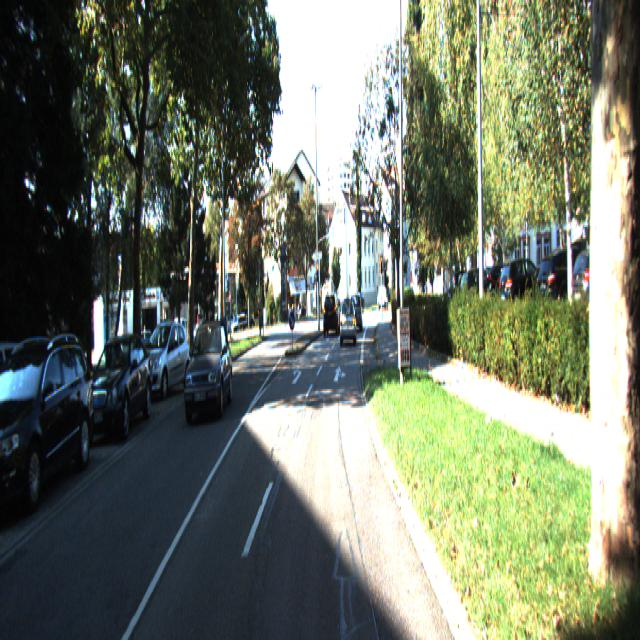Car: (0, 337, 98, 532), (82, 333, 154, 444), (183, 322, 233, 422), (137, 320, 191, 400), (340, 300, 356, 345)
